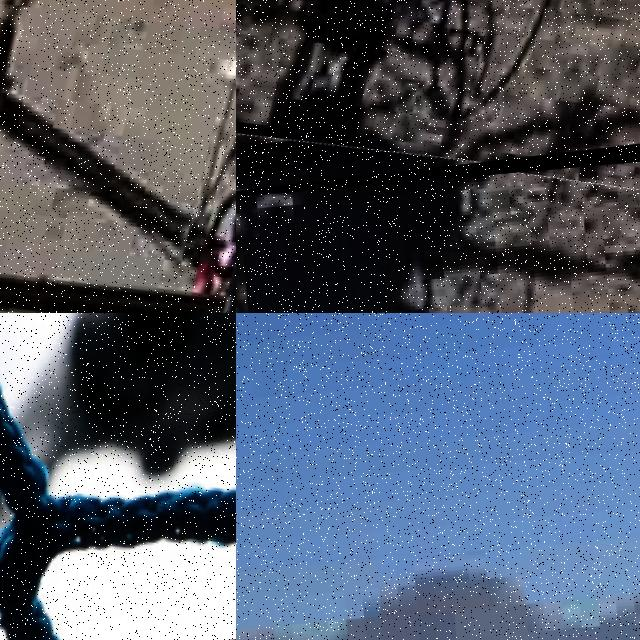0: (236, 0, 640, 211), (0, 0, 236, 313)
drone: (0, 313, 236, 640)
